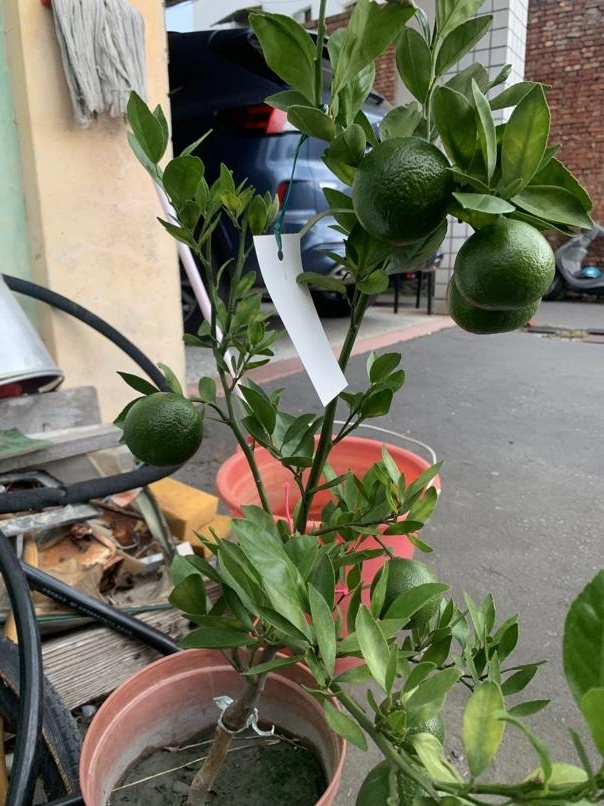Tangerine: (350, 133, 457, 245), (451, 213, 556, 306), (118, 392, 201, 469)
